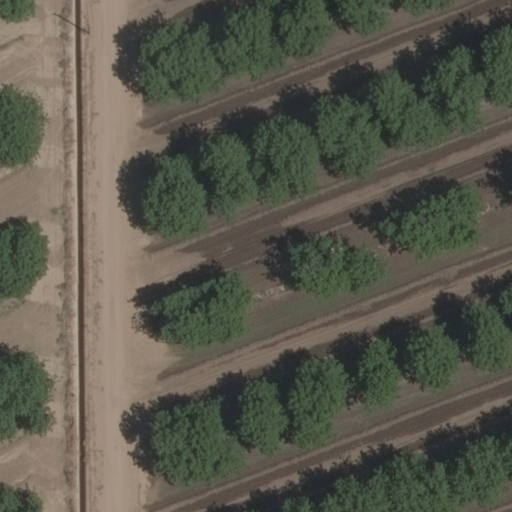DT: (71, 20, 93, 36)
